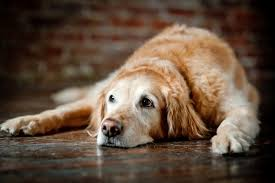dog: (97, 92, 159, 147)
